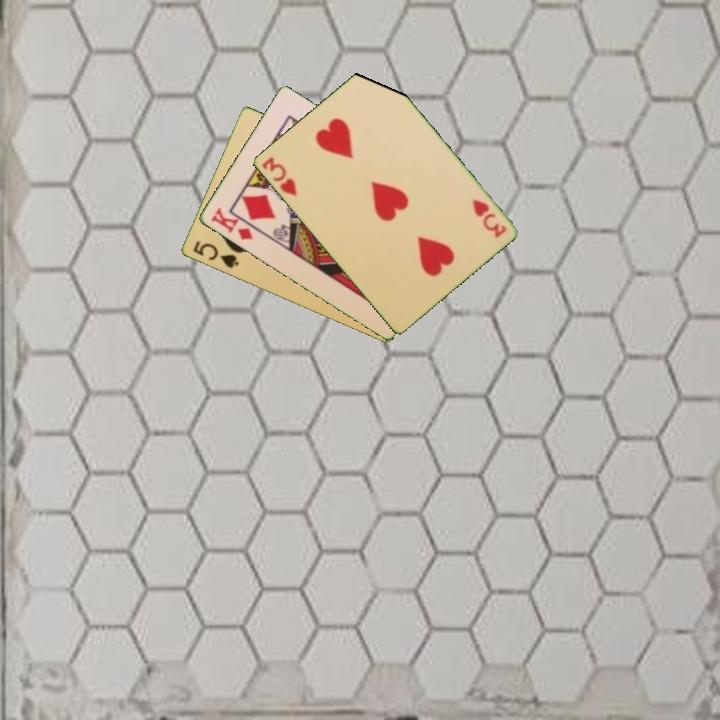3h: (258, 153, 300, 199), (468, 196, 509, 241)
5s: (189, 237, 241, 271)
Kd: (207, 204, 256, 243)
